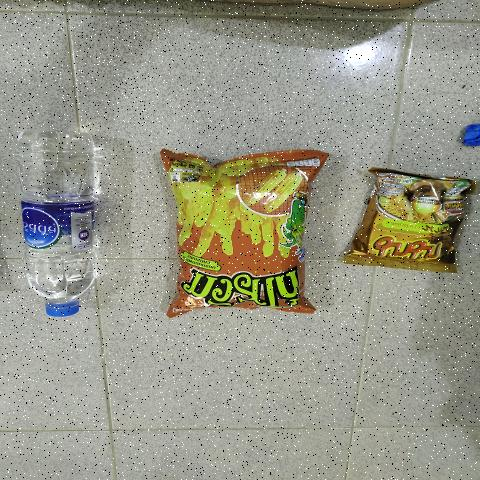crystal: (26, 121, 97, 324)
mama: (356, 166, 470, 268)
twisco: (185, 164, 300, 313)
